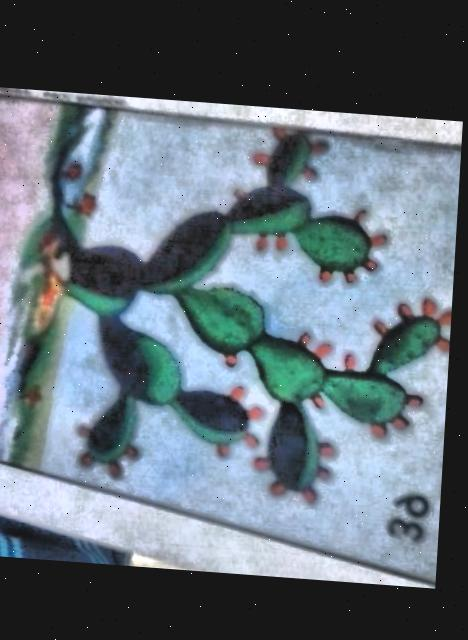El Nopal: (0, 94, 463, 573)
